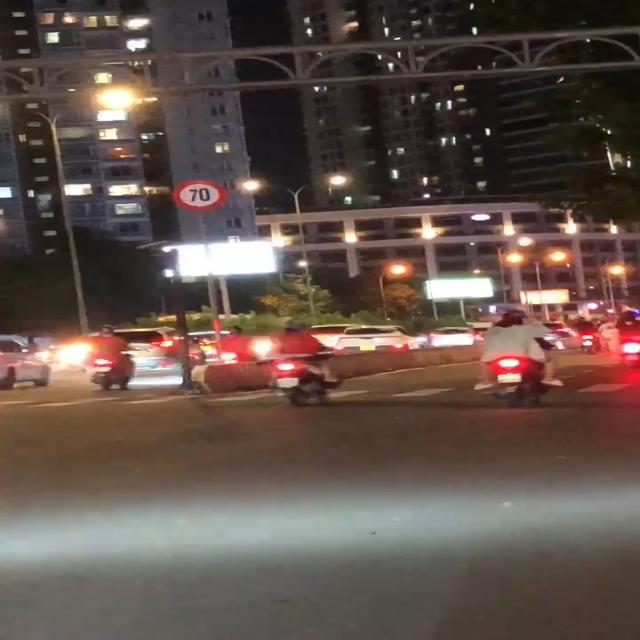Bien bao toc do toi da cho phep: (169, 179, 232, 211)
